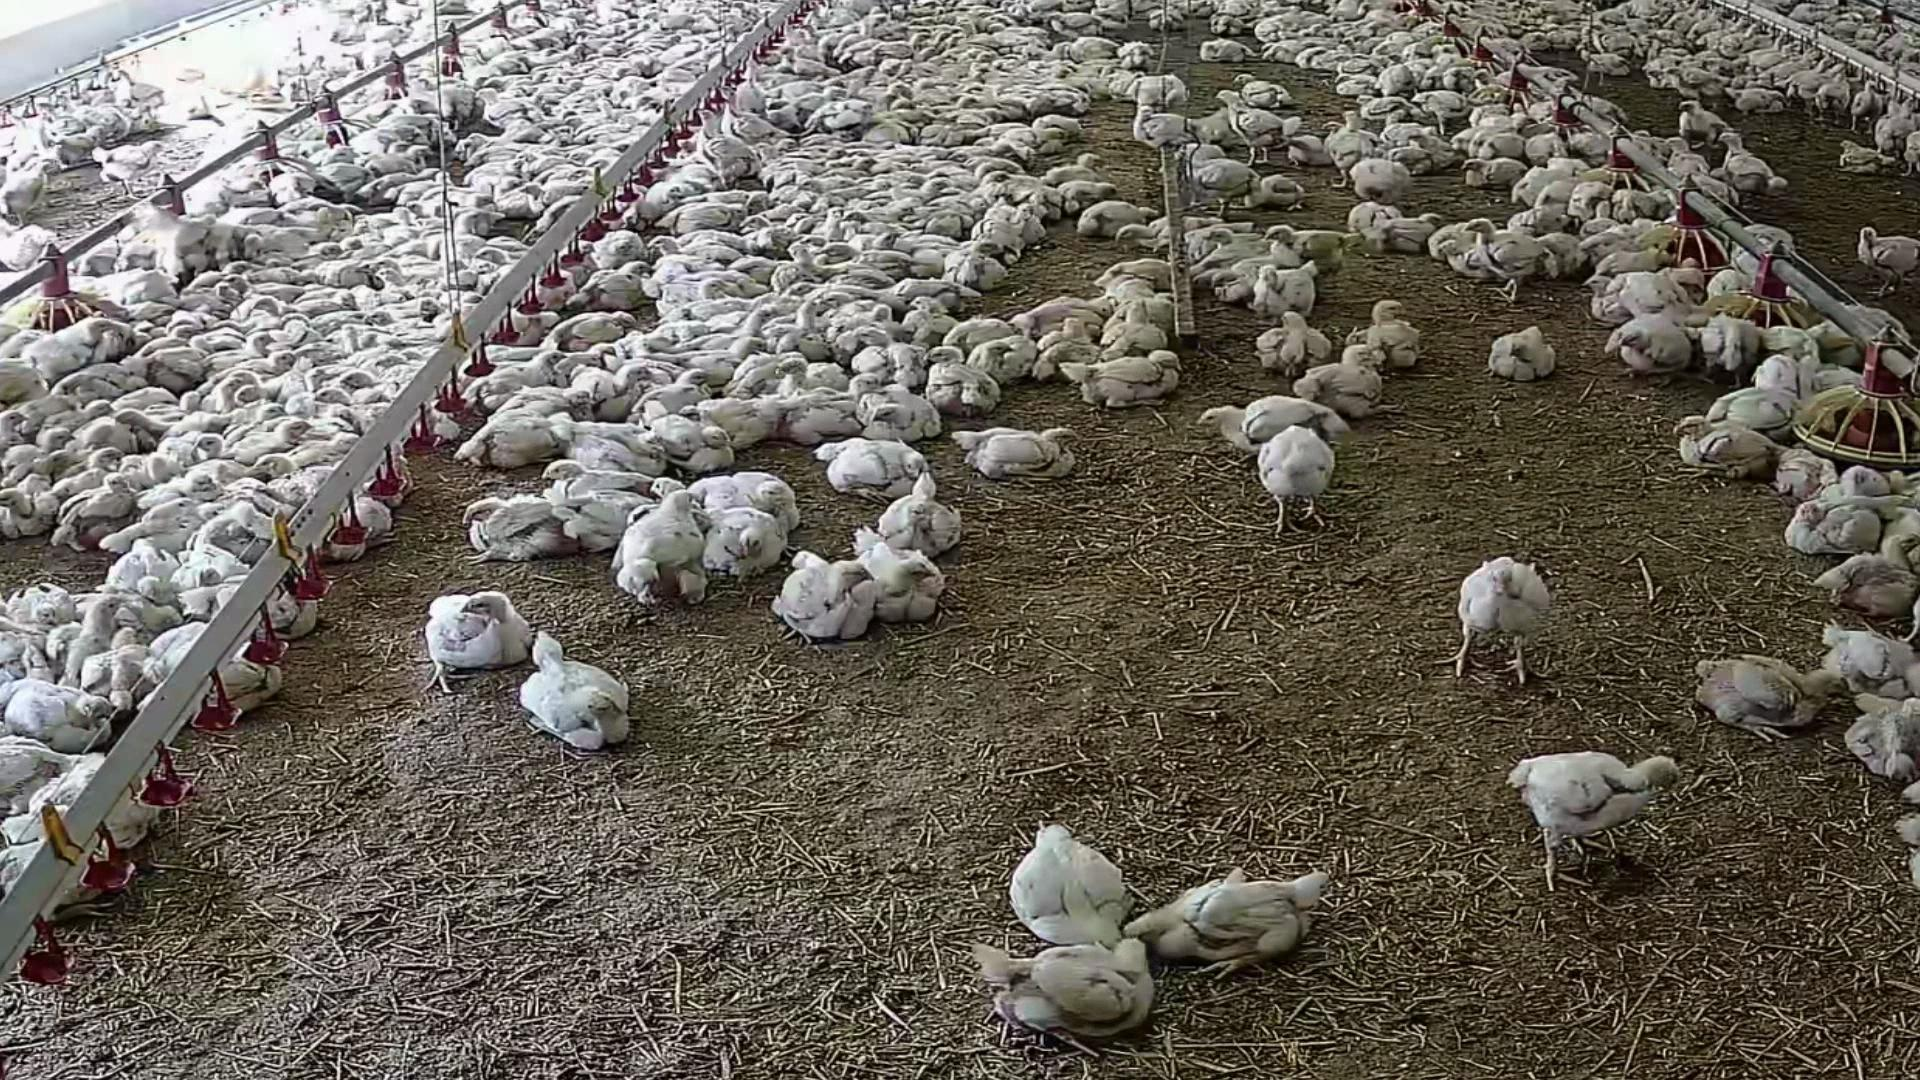poussin: (1116, 847, 1344, 972), (1509, 742, 1688, 893), (965, 928, 1162, 1046), (980, 815, 1142, 951), (1673, 633, 1836, 753), (1436, 531, 1561, 686), (520, 628, 651, 756), (415, 587, 545, 678), (628, 484, 720, 607), (845, 524, 948, 629), (458, 500, 585, 574), (7, 675, 117, 760), (1254, 425, 1337, 535), (881, 464, 977, 559), (951, 421, 1087, 484), (15, 307, 123, 384), (1824, 531, 1920, 615), (783, 546, 866, 642), (814, 431, 926, 501), (702, 497, 783, 591), (553, 410, 667, 476), (1709, 356, 1817, 425), (1675, 417, 1784, 484), (1215, 86, 1300, 171), (1816, 617, 1920, 687), (645, 405, 745, 473), (464, 406, 578, 465), (1854, 680, 1920, 781), (1060, 357, 1188, 407), (699, 464, 804, 522), (135, 203, 224, 270), (1299, 347, 1390, 413), (1349, 298, 1429, 371), (527, 455, 655, 500), (1857, 220, 1920, 307), (1466, 219, 1551, 284), (1784, 495, 1878, 553), (1246, 394, 1357, 443), (1484, 320, 1564, 386), (923, 345, 1004, 411), (76, 476, 145, 547), (135, 339, 218, 397), (1254, 303, 1327, 369), (1618, 316, 1693, 378), (87, 137, 169, 194), (1244, 258, 1323, 316), (76, 591, 127, 680), (756, 297, 829, 356), (225, 415, 320, 462), (1263, 224, 1358, 269), (481, 345, 562, 398), (853, 326, 922, 385), (1617, 262, 1692, 316), (578, 360, 647, 418), (580, 258, 651, 315), (1720, 132, 1782, 196), (1321, 123, 1382, 189), (760, 394, 864, 433), (861, 382, 939, 433), (1191, 161, 1255, 220), (175, 542, 251, 592), (1702, 314, 1762, 376), (1350, 157, 1422, 208), (229, 658, 295, 713), (7, 572, 74, 626), (1097, 255, 1175, 301), (699, 109, 746, 183), (957, 235, 1017, 293), (1, 484, 61, 542), (1360, 211, 1443, 252), (1113, 301, 1171, 359), (1573, 236, 1664, 273), (4, 166, 66, 219), (647, 331, 742, 365), (406, 199, 501, 233), (8, 423, 76, 469), (968, 335, 1040, 378), (716, 96, 781, 145), (1036, 318, 1096, 371), (1414, 86, 1494, 124), (1779, 446, 1833, 502), (553, 311, 641, 345), (240, 225, 319, 262), (811, 91, 876, 136), (0, 218, 58, 266), (140, 469, 225, 502), (1432, 219, 1477, 280), (475, 86, 543, 125), (736, 211, 794, 257), (224, 270, 305, 303), (1229, 71, 1294, 112), (650, 233, 737, 264), (364, 145, 440, 179), (1664, 66, 1730, 105), (1079, 202, 1160, 233), (1833, 141, 1894, 183), (1133, 104, 1191, 148), (658, 202, 745, 231), (135, 574, 178, 632), (775, 357, 852, 390), (109, 410, 186, 443), (1031, 290, 1116, 319), (1725, 84, 1796, 119), (906, 295, 957, 343), (1120, 73, 1193, 105), (913, 199, 986, 232), (1199, 401, 1244, 455), (556, 120, 626, 154), (1357, 92, 1424, 128), (658, 363, 723, 400), (210, 327, 276, 363), (508, 386, 592, 414), (786, 241, 848, 278), (351, 491, 398, 538), (1407, 132, 1460, 174), (1669, 135, 1718, 179), (514, 171, 584, 202), (877, 231, 956, 257), (1261, 171, 1309, 214), (290, 433, 364, 460), (1461, 156, 1527, 186), (872, 30, 934, 62), (1578, 47, 1633, 83), (239, 345, 299, 377), (272, 164, 322, 202), (1117, 218, 1168, 255), (1048, 11, 1120, 37), (1054, 150, 1113, 181), (78, 443, 129, 477), (1200, 36, 1261, 65), (1585, 272, 1621, 320), (1820, 71, 1850, 128), (886, 78, 943, 108), (644, 468, 695, 501), (736, 59, 766, 113), (1207, 228, 1262, 257), (599, 229, 645, 264), (373, 262, 419, 297), (1855, 76, 1882, 136), (1540, 179, 1573, 225), (989, 202, 1036, 233), (1581, 199, 1619, 237), (1286, 135, 1324, 173), (1211, 8, 1263, 36), (462, 129, 517, 156), (967, 53, 1022, 79), (243, 454, 302, 477), (148, 492, 195, 521), (53, 400, 121, 419), (1212, 266, 1253, 299), (1837, 468, 1887, 495), (646, 183, 679, 223), (1443, 65, 1491, 91), (1034, 111, 1087, 135), (1117, 42, 1164, 69), (824, 207, 855, 247), (1055, 182, 1120, 200), (866, 202, 916, 224), (193, 430, 228, 459), (0, 407, 25, 448), (769, 260, 806, 287), (1480, 135, 1524, 157), (318, 142, 363, 165), (1328, 51, 1375, 73), (313, 240, 355, 264), (688, 278, 738, 298), (473, 245, 513, 270), (1333, 74, 1379, 95), (239, 386, 287, 406), (1601, 29, 1643, 51), (1299, 40, 1328, 71), (989, 22, 1042, 40), (1333, 108, 1369, 133), (336, 368, 378, 389), (564, 348, 605, 368), (316, 385, 355, 406), (375, 351, 413, 372), (1265, 41, 1299, 63), (323, 287, 361, 307), (164, 324, 203, 343), (222, 373, 241, 410), (367, 310, 401, 331), (311, 351, 345, 372), (417, 294, 444, 319), (320, 414, 357, 433), (911, 179, 953, 195), (1775, 41, 1808, 59), (989, 169, 1018, 189), (775, 280, 819, 293), (162, 313, 203, 326), (1375, 37, 1406, 54), (1642, 66, 1665, 87), (775, 137, 800, 157), (754, 140, 775, 161), (831, 173, 858, 189), (869, 179, 898, 194), (951, 149, 980, 162), (857, 157, 884, 171), (1730, 17, 1754, 33), (811, 148, 847, 158), (331, 410, 359, 423), (972, 50, 1002, 62), (1385, 49, 1406, 65), (803, 178, 827, 191), (1745, 22, 1766, 37)
